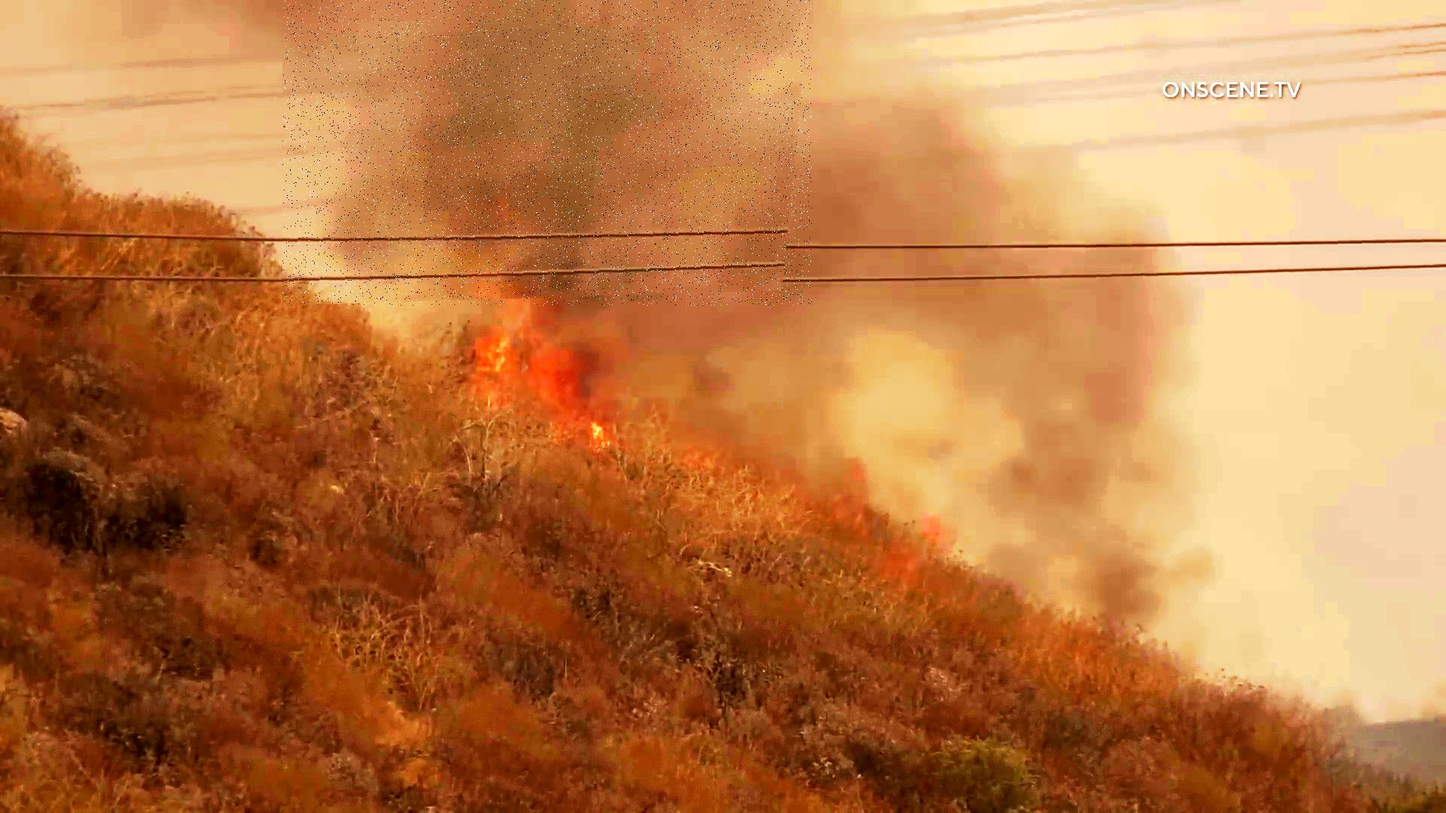smoke: (282, 0, 812, 306)
